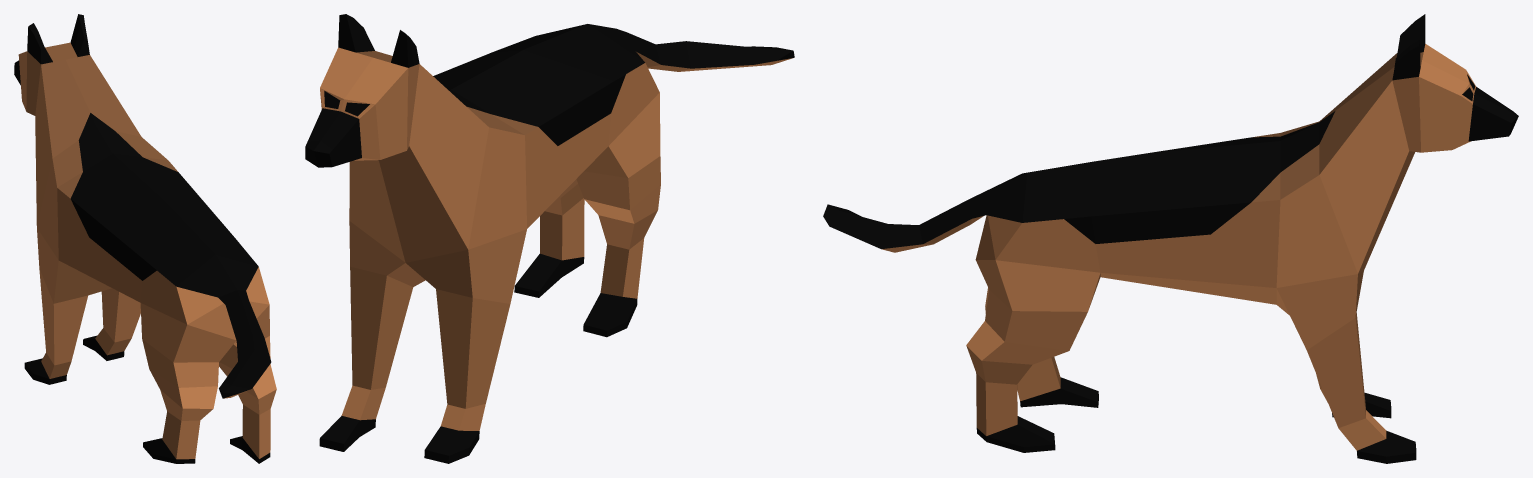
File: дог с анимацией.fbx
The picture shows the model from 3 angles, left to right: view 1: azimuth 30°, elevation 25°; view 2: azimuth 150°, elevation 25°; view 3: azimuth 270°, elevation 25°; orthographic projection. The views are drawn at different scales.
Visible parts, largest first — view 1: Cube; view 2: Cube; view 3: Cube.
Part boxes in pixels (x1,y1,x2,y2): Cube: [14, 14, 276, 463]; Cube: [305, 14, 794, 463]; Cube: [823, 14, 1518, 463].
Size of the model in its own units: 448 by 1096 by 1689.
